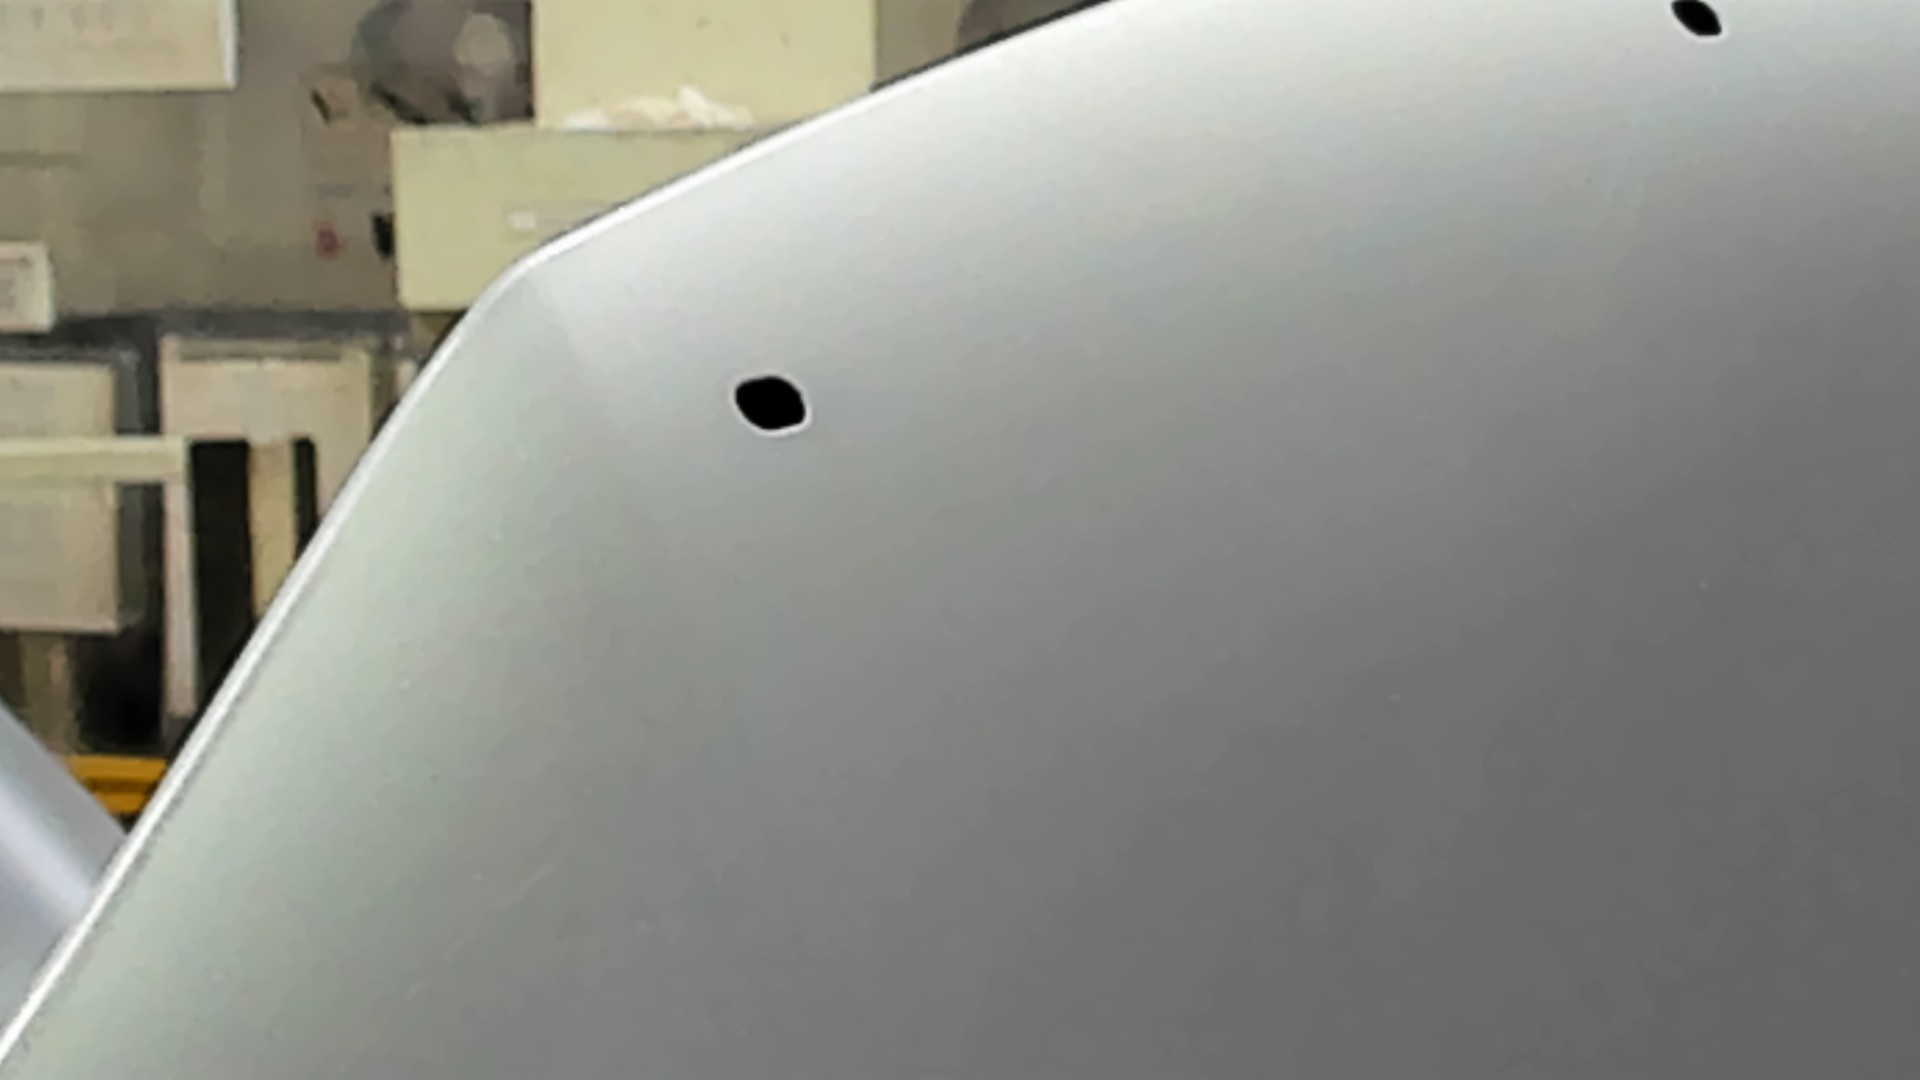amorfo: (729, 369, 815, 440), (1669, 1, 1727, 45)
